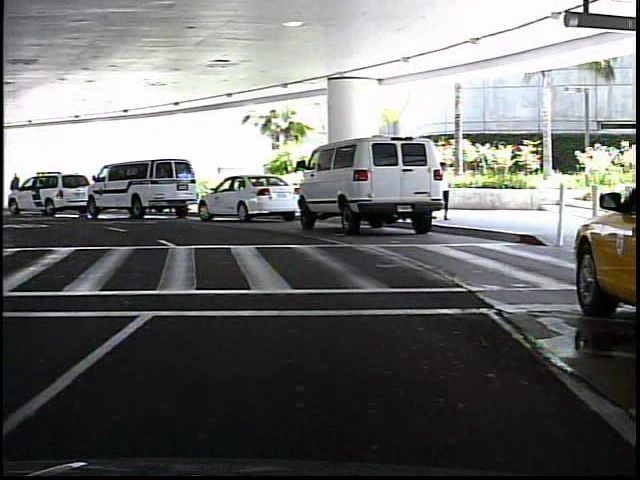person: (9, 169, 26, 212)
